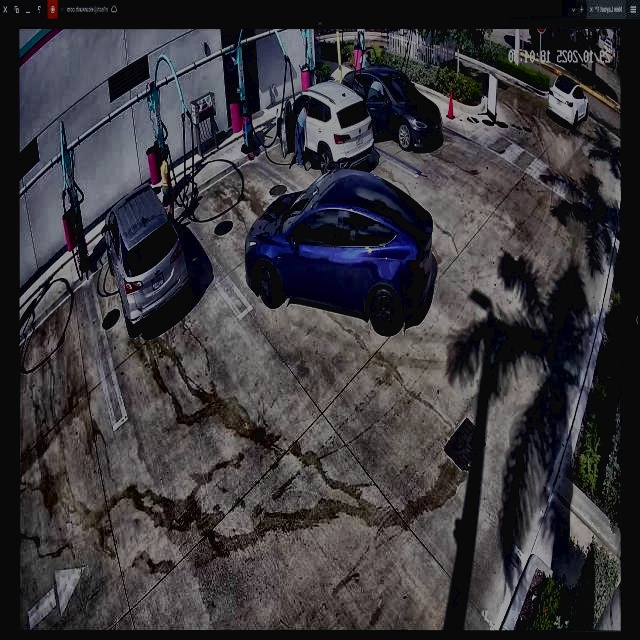Car: (247, 173, 426, 332), (104, 179, 189, 337), (278, 78, 375, 177), (342, 65, 444, 153)
